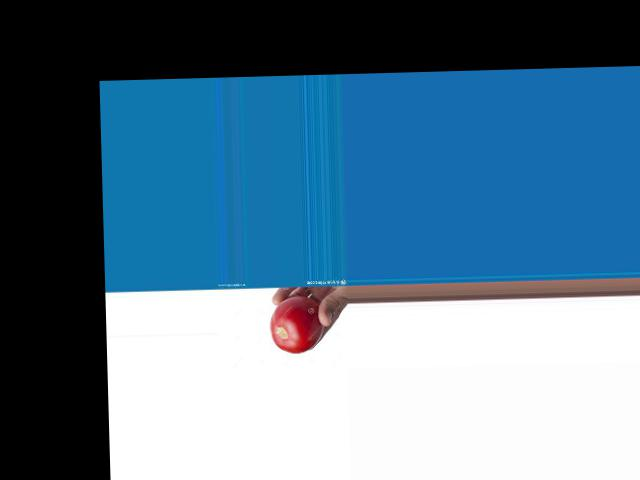tomato: (269, 295, 324, 353)
